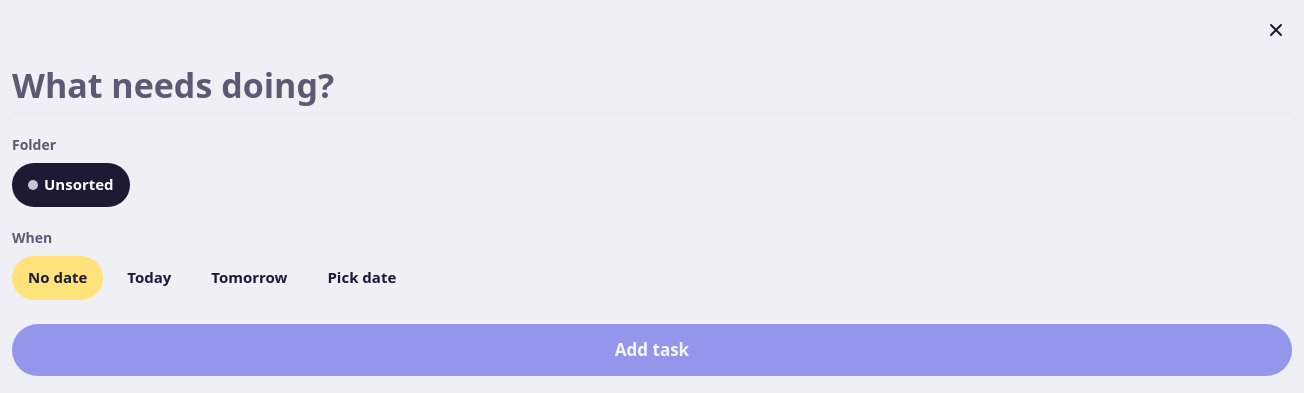
Test case: QuickAdd › adds an undated task to Unsorted, confirms it and stays ready for the next
The width and height of the screenshot is (1304, 393).
Expected: the button "Add task" is disabled, [12, 324, 1292, 376]
Type "  Pay rent " into the field named "Task title".
click(652, 89); type("  Pay rent ")  # box [12, 64, 1292, 114]
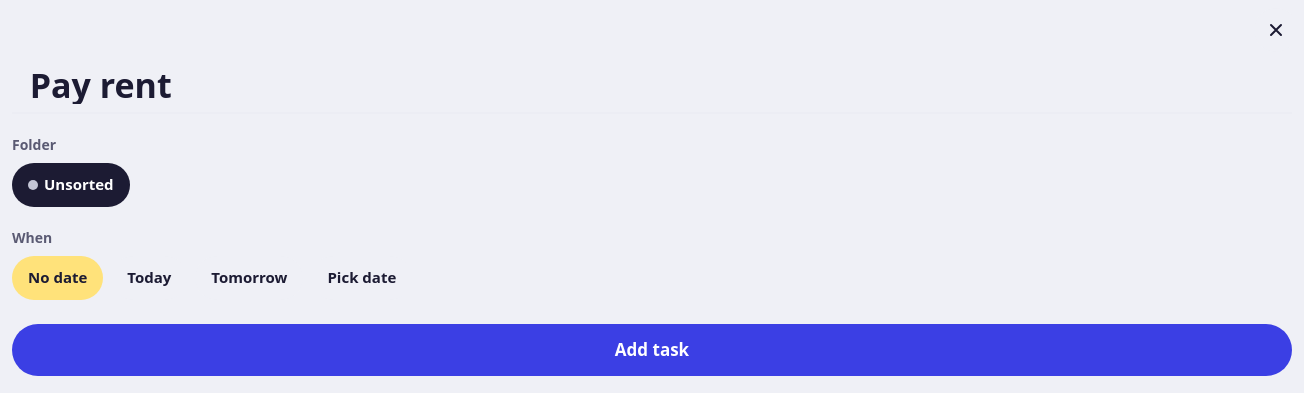
Click the button "Add task".
click(652, 350)  # box [12, 324, 1292, 376]
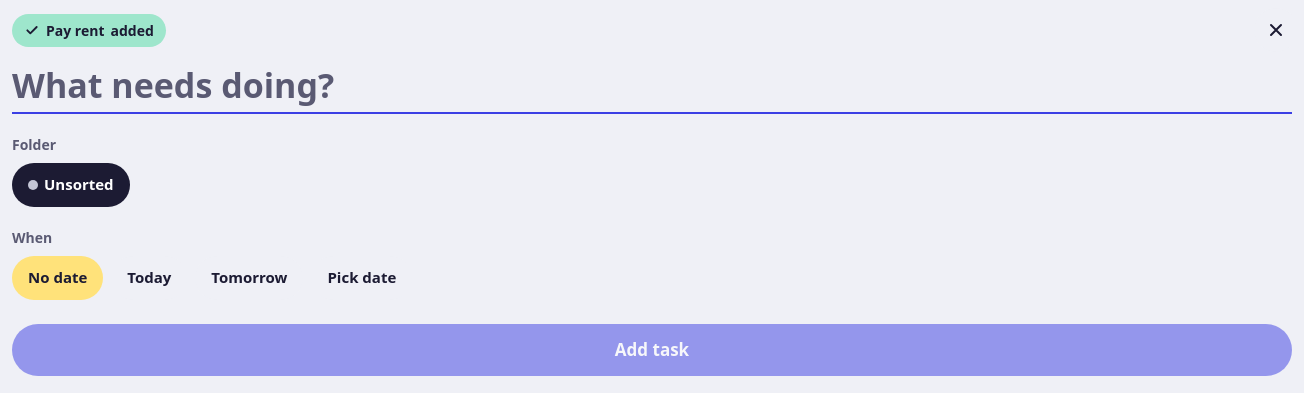
Expected: the message reads "Pay rent added", [12, 14, 166, 46]
Expected: the field named "Task title" is empty, [12, 64, 1292, 114]
